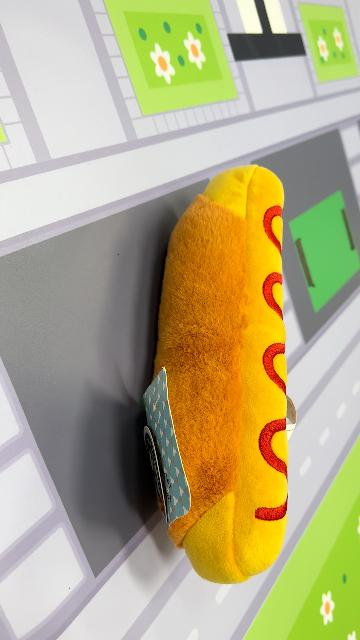hotdog: (142, 163, 292, 585)
